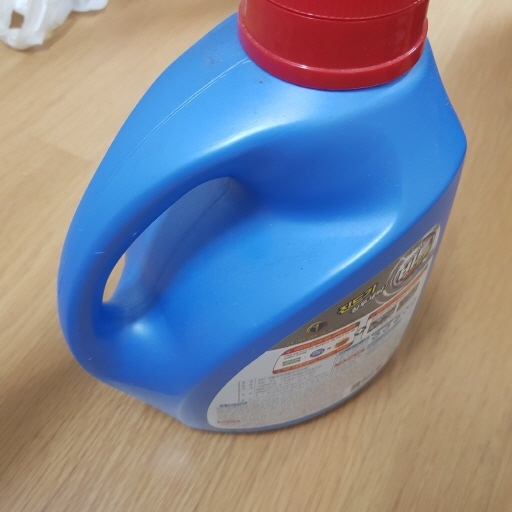Plastic_1: (63, 1, 468, 435)
